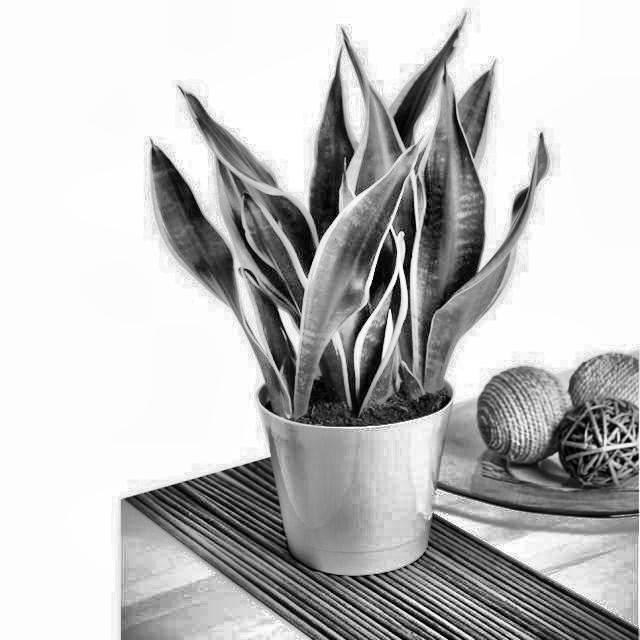plants: (154, 94, 513, 390)
